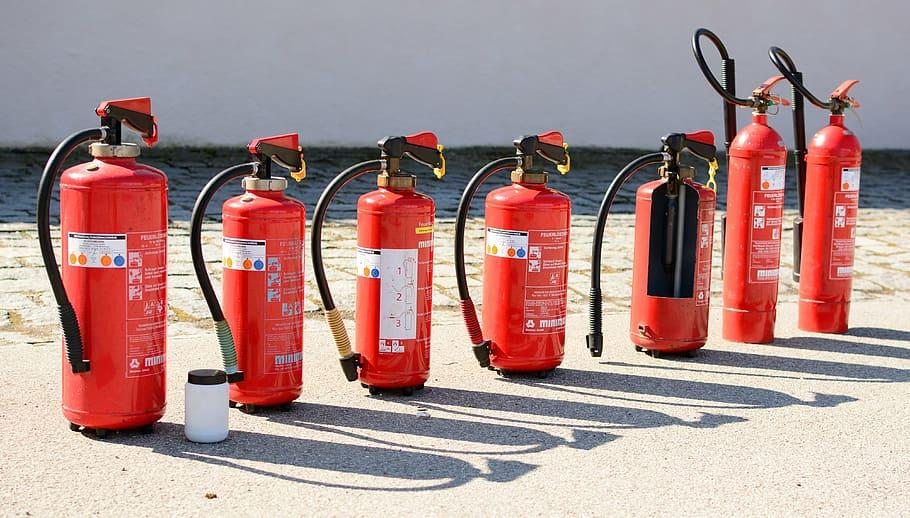Fire Extinguisher: (30, 79, 177, 450), (189, 120, 310, 410), (444, 127, 576, 389), (321, 127, 441, 401), (586, 117, 714, 367), (717, 30, 793, 390), (796, 44, 869, 411)
